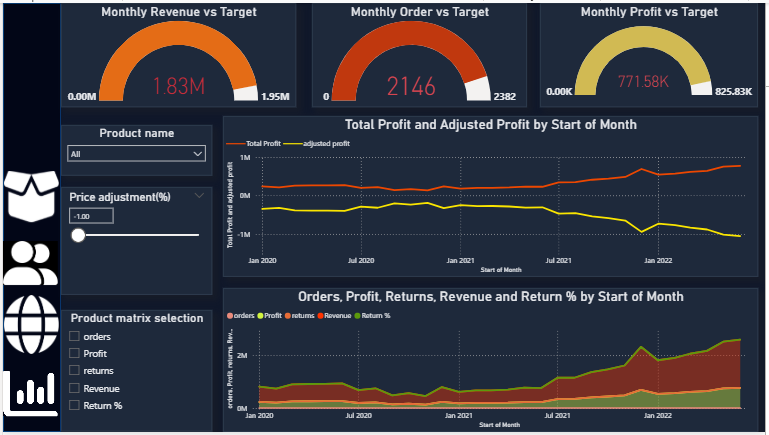

This screenshot's page, from the dashboard's own definition file:
{"tool":"powerbi","page":{"name":"Product analysis","canvas":[1280,720],"ordinal":6},"visuals":[{"type":"slicer","title":"Product matrix selection","fields":{"Values":["Parameter 2.Parameter"]},"box":[96.8,515.9,253.5,204.2],"z":0},{"type":"slicer","title":"Product name","fields":{"Values":["Product Lookup.ProductName"]},"box":[96.8,204.2,253.5,84.5],"z":1000},{"type":"shape","box":[0,0,97.4,720.6],"z":2000},{"type":"actionButton","box":[0,618.2,92.4,75.6],"z":3000},{"type":"actionButton","box":[0,525.8,92.4,85.7],"z":4000},{"type":"actionButton","box":[0,409.9,92.4,99.1],"z":5000},{"type":"gauge","title":"Monthly order vs target","fields":{"MaxValue":["Measure table.order target"],"Y":["Measure table.Total orders"]},"box":[519.1,0,361.2,174.7],"z":7000},{"type":"gauge","title":"monthly revenue vs target","fields":{"MaxValue":["Measure table.Revenue target"],"Y":["Measure table.Total Revenue"]},"box":[97.4,0,394.8,174.7],"z":8000},{"type":"gauge","title":"monthly  profit vs target","fields":{"MaxValue":["Measure table.Profit target"],"Y":["Measure table.Total Profit"]},"box":[902,0,366.2,174.7],"z":9000},{"type":"lineChart","fields":{"Category":["Calendar Lookup.Custom Date Hierarchy.Start of Month","Calendar Lookup.Custom Date Hierarchy.Start of Quarter","Calendar Lookup.Custom Date Hierarchy.Start of Week","Calendar Lookup.Custom Date Hierarchy.Start of Year"],"Y":["Measure table.Total Profit","Measure table.adjusted profit"]},"box":[370,175,899,285],"z":10000},{"type":"slicer","fields":{"Values":["Price adjustment(%).Price adjustment(%)"]},"box":[97.4,309.1,253.6,181.4],"z":11000},{"type":"stackedAreaChart","fields":{"Category":["Calendar Lookup.Custom Date Hierarchy.Start of Month"],"Y":["Measure table.Total orders","Measure table.Total Profit","Measure table.Total returns","Measure table.Total Revenue","Measure table.Return rate"]},"box":[369.6,478.7,898.7,241.9],"z":12000}]}

Visuals, with their boxes on the page's 1280x720 design canvas (x1, y1, x2, y2). These are canvas units, not pixel positions in the 769x435 screenshot, which may show the page scaled, cropped or inside an application window:
"Product matrix selection" slicer: 97/516/350/720
"Product name" slicer: 97/204/350/289
shape: 0/0/97/721
actionButton: 0/618/92/694
actionButton: 0/526/92/612
actionButton: 0/410/92/509
"Monthly order vs target" gauge: 519/0/880/175
"monthly revenue vs target" gauge: 97/0/492/175
"monthly  profit vs target" gauge: 902/0/1268/175
lineChart - Calendar Lookup.Custom Date Hierarchy.Start of Month x Calendar Lookup.Custom Date Hierarchy.Start of Quarter: 370/175/1269/460
slicer - Price adjustment(%).Price adjustment(%): 97/309/351/490
stackedAreaChart - Calendar Lookup.Custom Date Hierarchy.Start of Month x Measure table.Total orders: 370/479/1268/721
